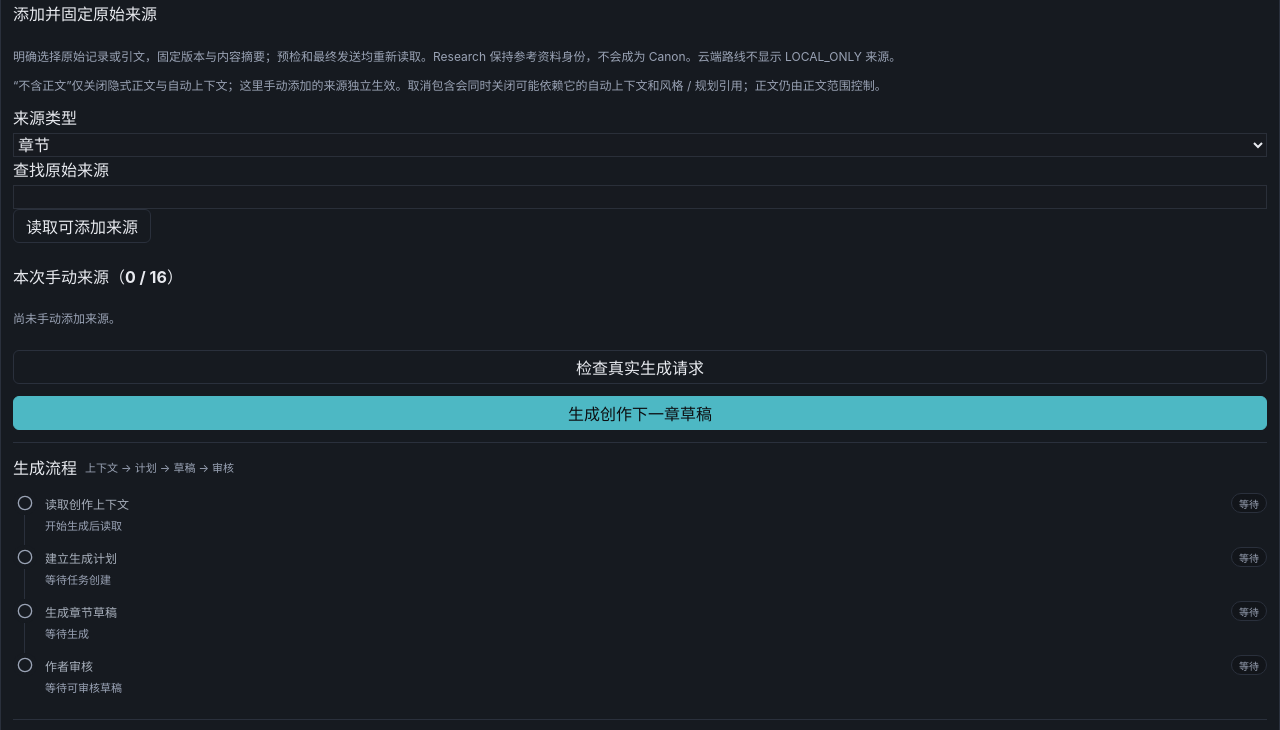
Test case: Author actual request preflight › writing UI requires the matching preview before sending and invalidates changed style
(page scrolled)
Expected: the button "生成创作下一章草稿" is disabled, [13,396,1267,430]
Click the button "检查真实生成请求" at (640, 367), box [13,350,1267,384]
(page scrolled)
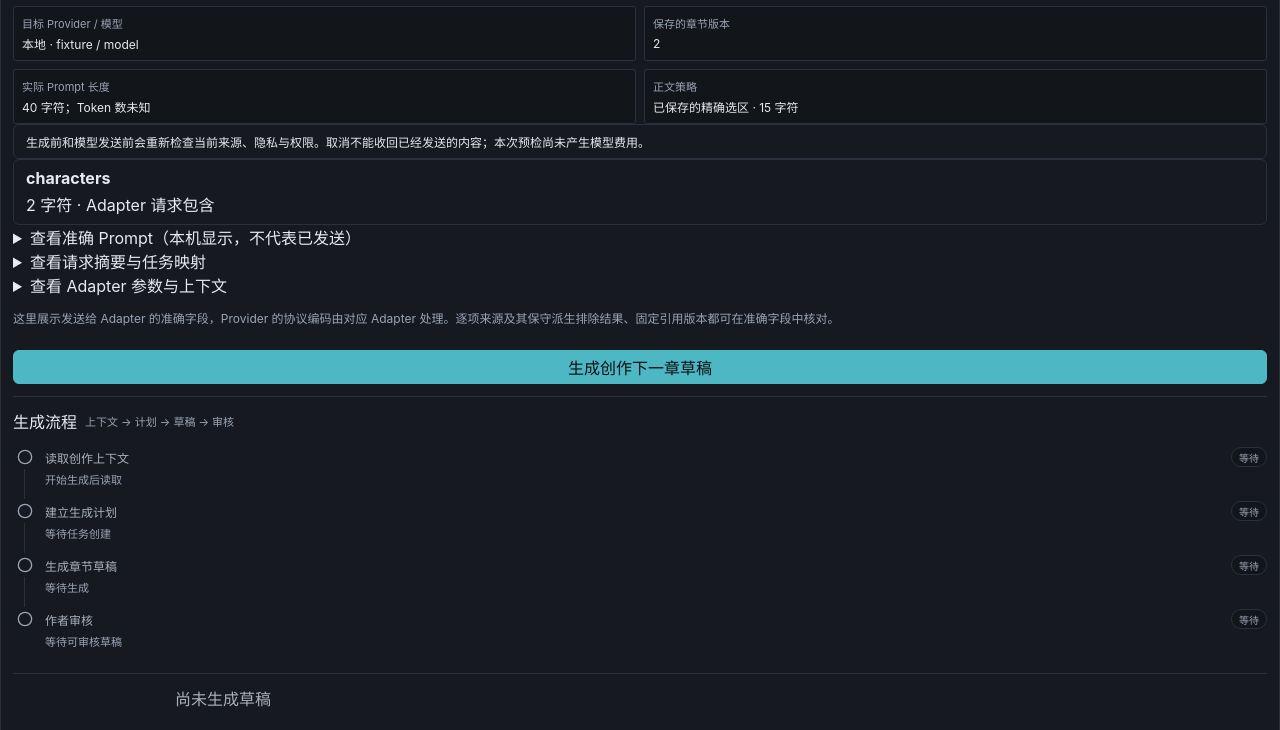
Result: the button "生成创作下一章草稿" is enabled
Click the button "生成创作下一章草稿" at (640, 367), box [13,350,1267,384]
(page scrolled)
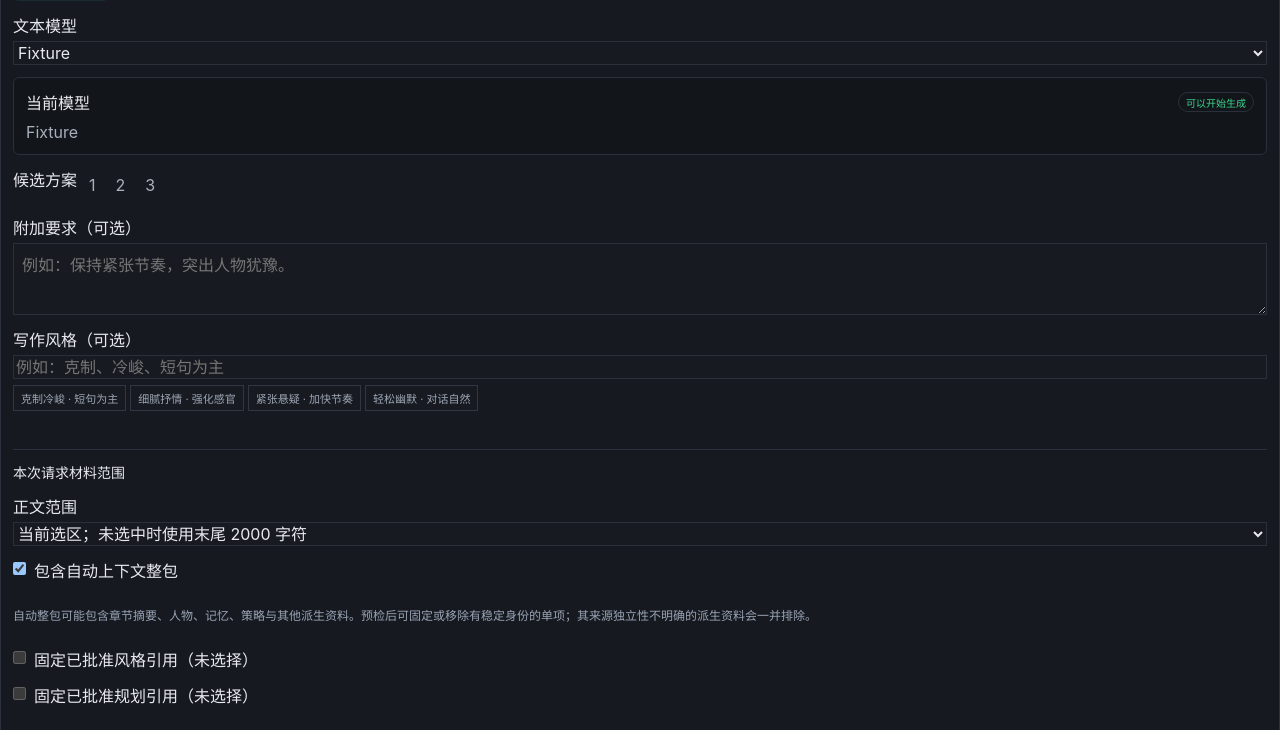
Type "changed style" into the field labelled "写作风格（可选）" at (640, 367), box [13,355,1267,379]
(page scrolled)
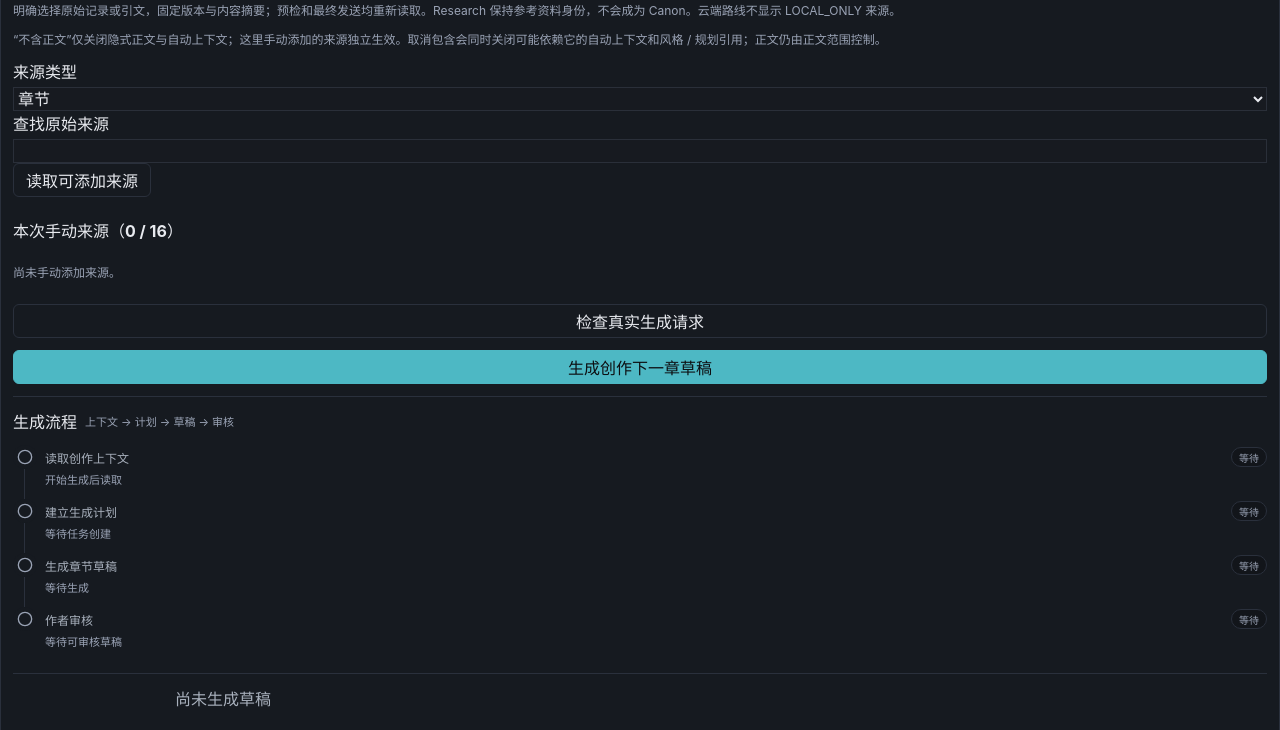
Result: the button "生成创作下一章草稿" is disabled at [13,350,1267,384]
